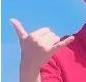clockwise: (9, 18, 75, 58)
